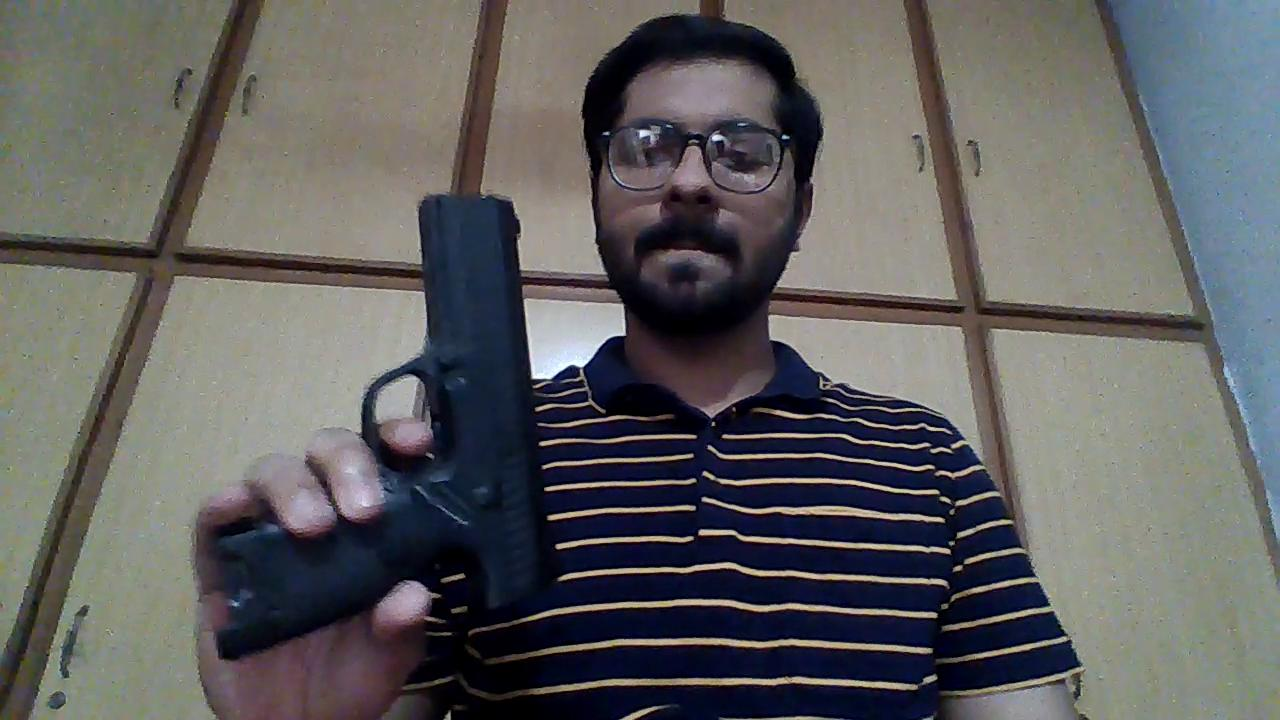criminal: (191, 11, 1086, 720)
weapon: (209, 190, 559, 659)
